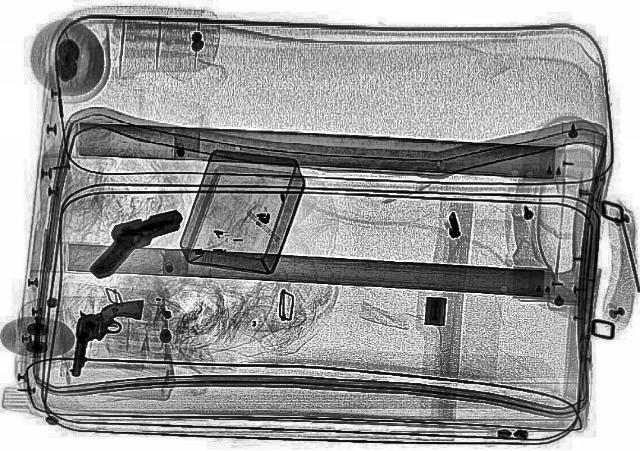Gun: (68, 197, 190, 282), (65, 296, 143, 376)
